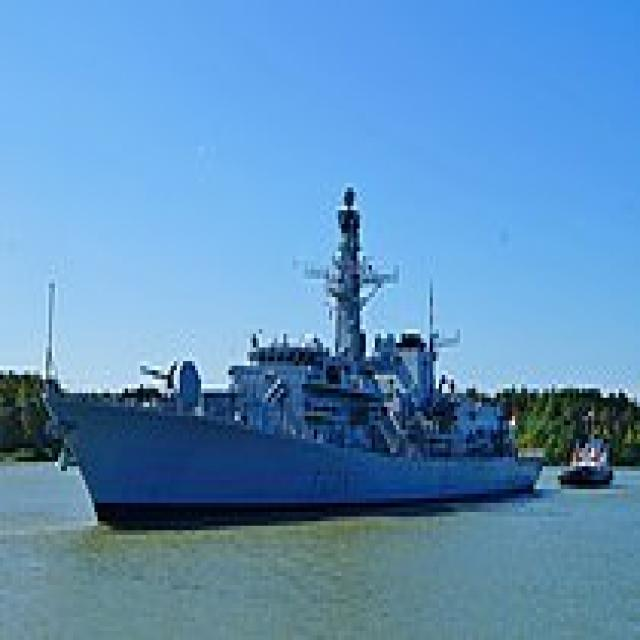Warship: (33, 174, 546, 521)
